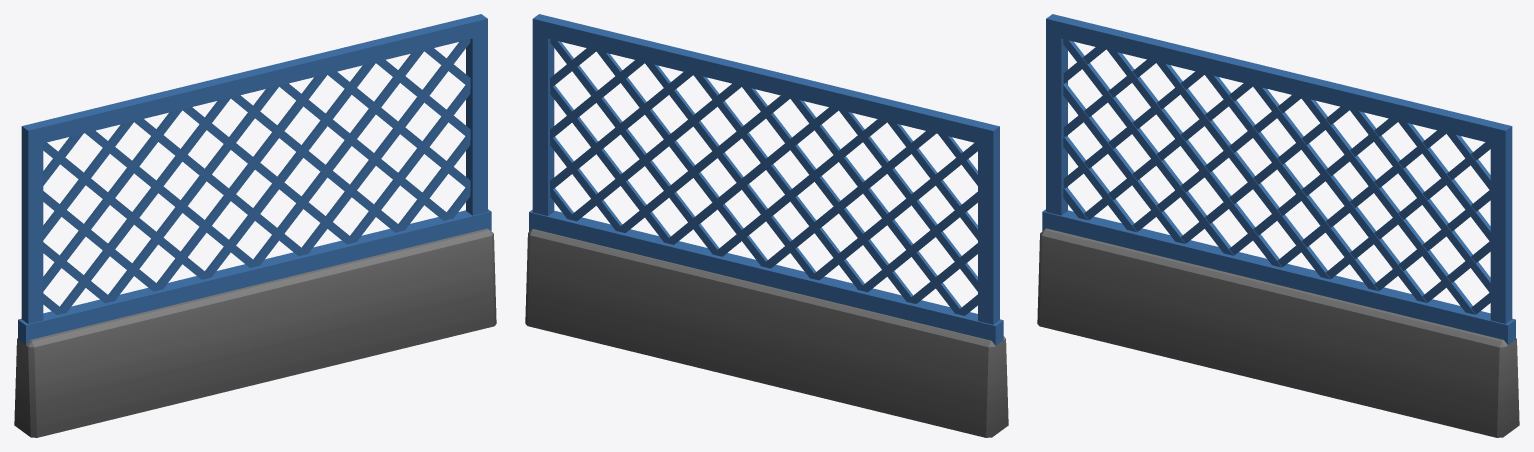
File: Fence_1_D_6.fbx
3 views of the same model, side by side, from view 1: azimuth 30°, elevation 25°; view 2: azimuth 150°, elevation 25°; view 3: azimuth 330°, elevation 25° (orthographic).
Parts seen in each view (by area): view 1: Fence_1_D_6; view 2: Fence_1_D_6; view 3: Fence_1_D_6.
Part boxes in pixels (x1,y1,x2,y2): Fence_1_D_6: (14, 14, 496, 437); Fence_1_D_6: (525, 14, 1008, 437); Fence_1_D_6: (1037, 14, 1519, 437).
Size of the model in its own units: 400 by 248 by 30.52.
